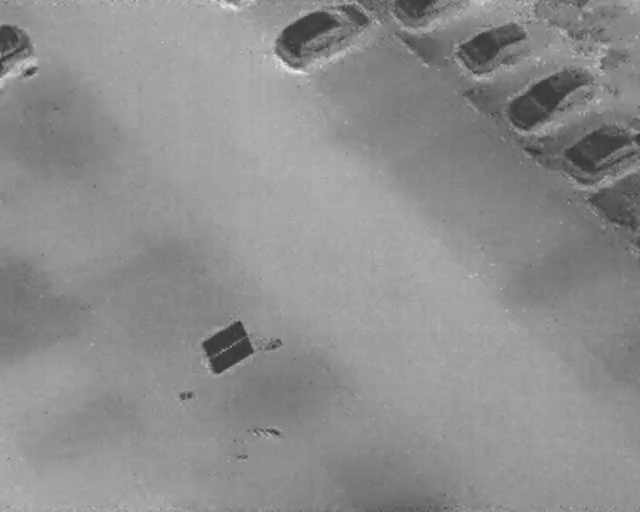Car: (498, 51, 603, 142), (273, 0, 383, 73), (451, 4, 549, 84), (561, 123, 639, 187), (0, 22, 41, 88), (391, 0, 469, 28)
